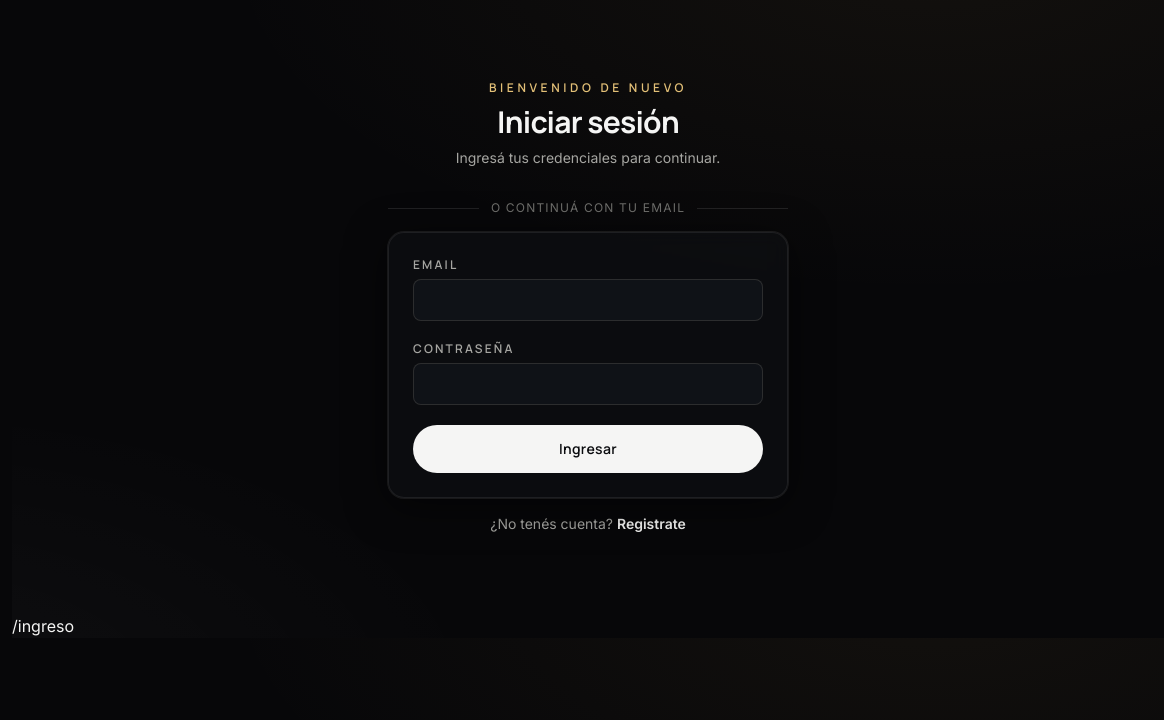
Test: InicioSesion › mantiene el destino previo cuando solo tiene pathname
The image size is (1164, 720).
Step 1. Type "ana@ejemplo.com" into the field labelled "Email" → (588, 300), box [413,279,763,321]
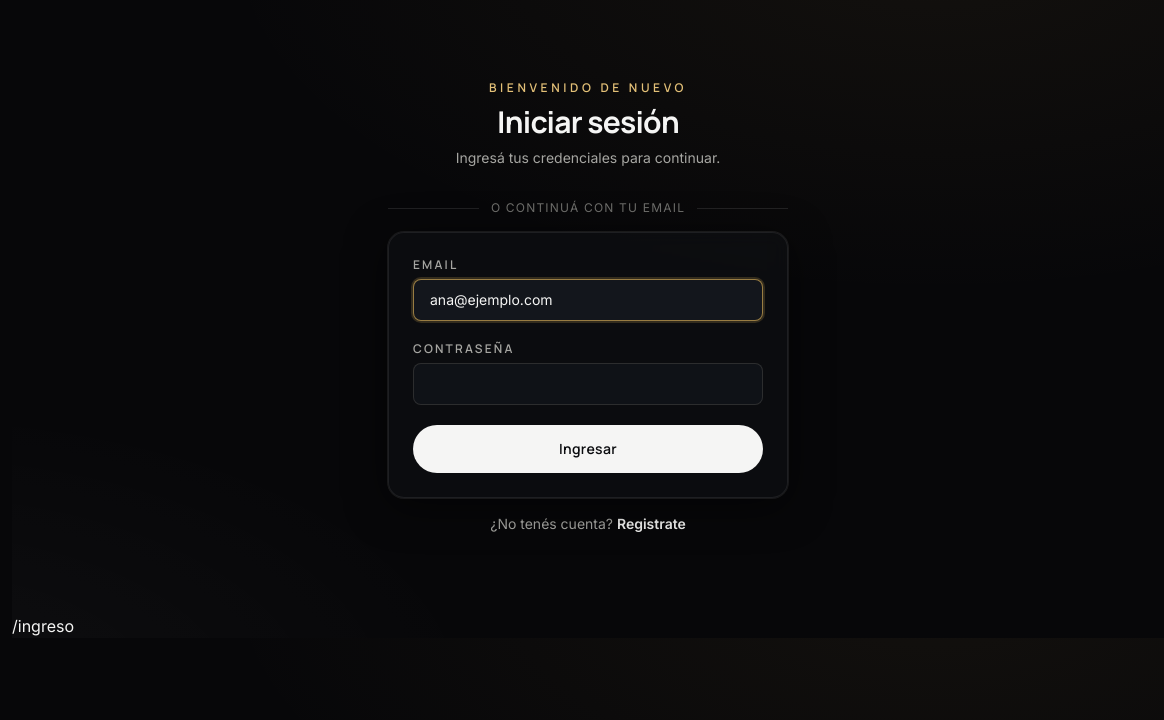
Step 2. Type "secreto123" into the password field labelled "Contraseña" → (588, 384), box [413,363,763,405]
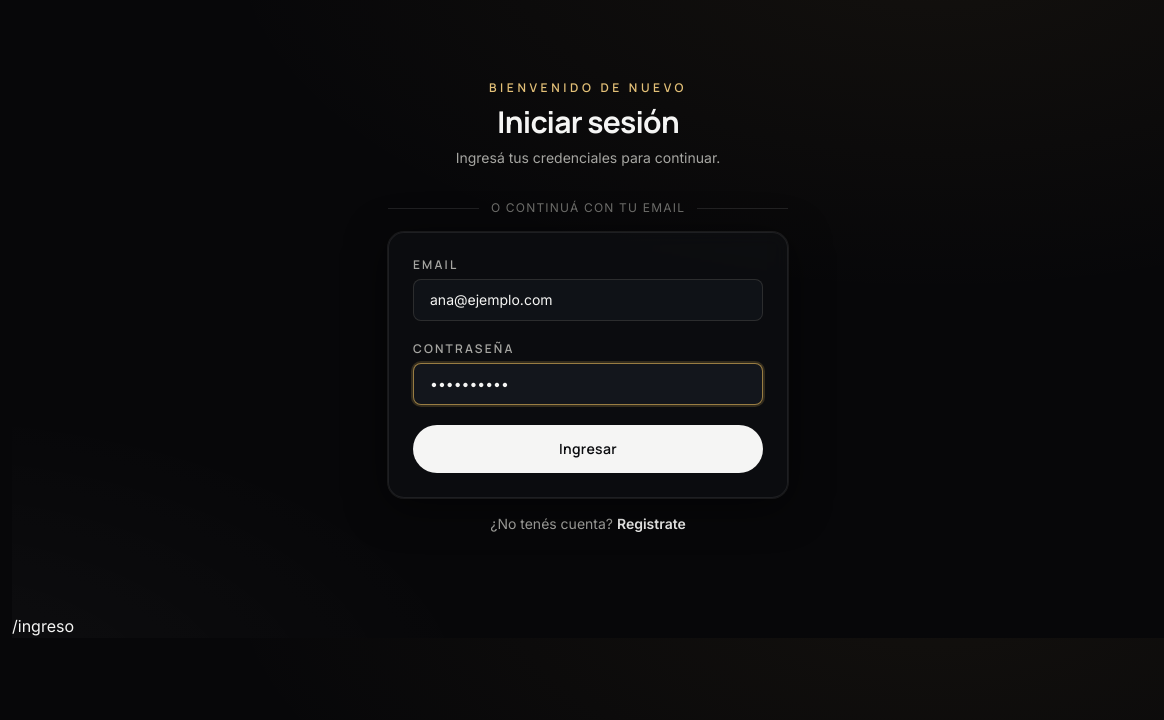
Step 3. Click the button "Ingresar" → (588, 449), box [413,425,763,473]
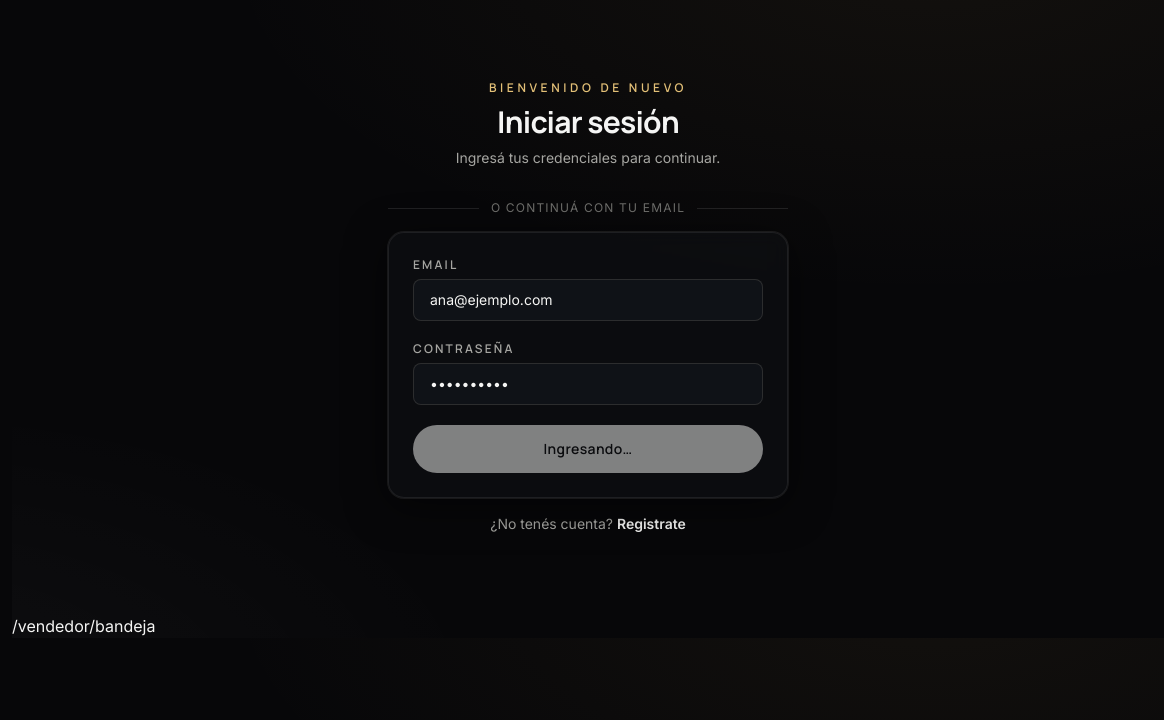
Now the text with test id "ubicacion" reads "/vendedor/bandeja", box [12,616,155,636]
